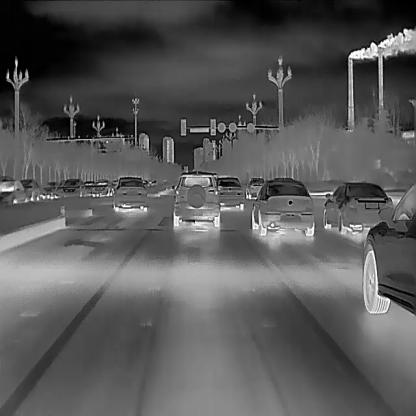car: (361, 178, 415, 317), (321, 180, 395, 234), (250, 176, 316, 236), (170, 172, 221, 228), (112, 176, 149, 212), (214, 175, 244, 209), (0, 178, 26, 206), (58, 177, 85, 197), (18, 177, 40, 201), (244, 177, 265, 199), (91, 176, 112, 198)
